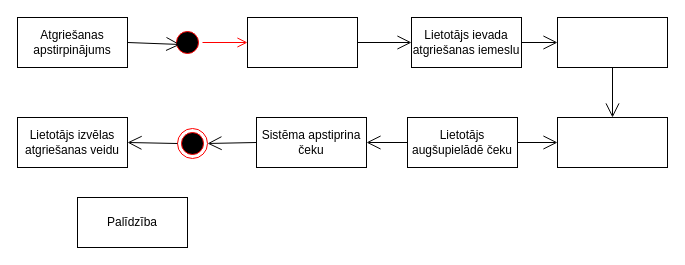
Image size: 685x265. Some labels were removed from this diagram. Each missing label, with the box of its shape:
Atgriešanas termiņa pārbaude: (556, 16, 668, 68)
Kļūda: (556, 116, 668, 168)
Lietotājs izvēlas atgriežamo preci: (246, 16, 358, 68)
